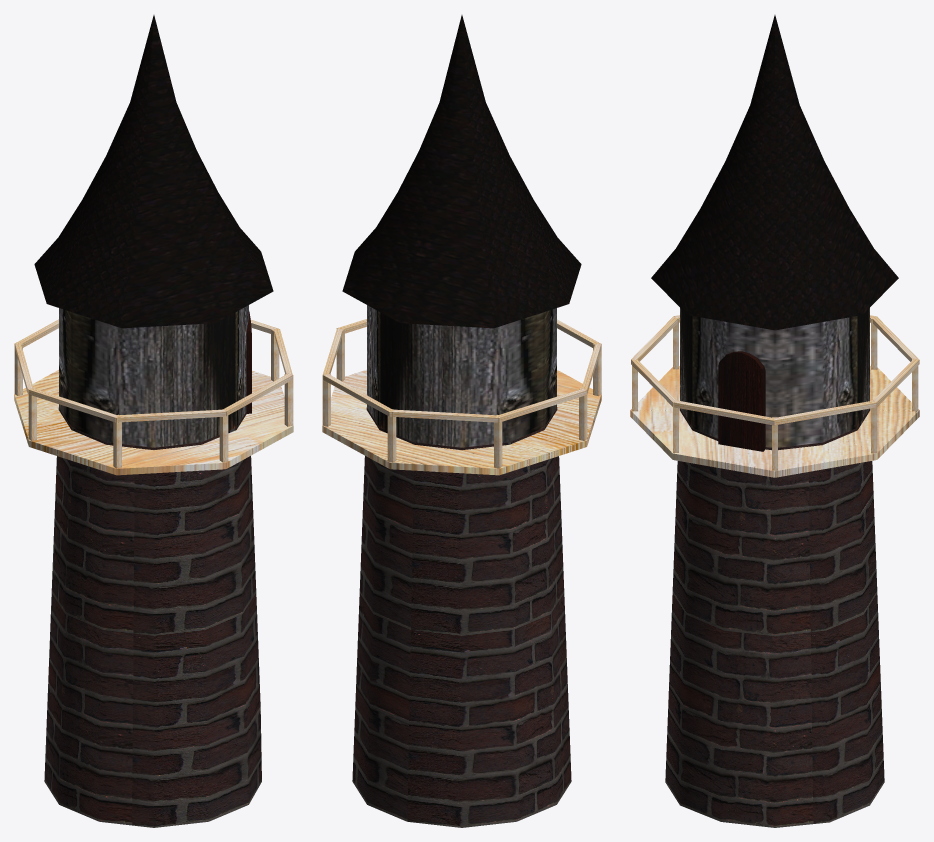
File: tower2.fbx
3 renders of one model, left to right at view 1: azimuth 30°, elevation 25°; view 2: azimuth 150°, elevation 25°; view 3: azimuth 270°, elevation 25°, orthographic.
Visible parts, largest first — view 1: Cone001, Cone002, Cylinder001, Cylinder002, Box013, Box017, Box015; view 2: Cone001, Cone002, Cylinder001, Cylinder002, Box012, Box014, Box011; view 3: Cone001, Cone002, Cylinder001, Cylinder002, Box025, Box016, Box002.
Boxes of the visible parts, x1=… form: Cone001: x1=44, y1=407, x2=261, y2=827; Cone002: x1=34, y1=15, x2=273, y2=328; Cylinder001: x1=59, y1=305, x2=248, y2=447; Cylinder002: x1=14, y1=370, x2=293, y2=475; Box013: x1=116, y1=409, x2=225, y2=422; Box017: x1=28, y1=388, x2=116, y2=422; Box015: x1=223, y1=373, x2=292, y2=416; Cone001: x1=352, y1=407, x2=571, y2=827; Cone002: x1=342, y1=15, x2=581, y2=328; Cylinder001: x1=367, y1=305, x2=556, y2=447; Cylinder002: x1=322, y1=369, x2=601, y2=475; Box012: x1=390, y1=409, x2=498, y2=422; Box014: x1=496, y1=388, x2=586, y2=422; Box011: x1=323, y1=373, x2=393, y2=416; Cone001: x1=665, y1=408, x2=884, y2=827; Cone002: x1=651, y1=15, x2=898, y2=330; Cylinder001: x1=680, y1=308, x2=869, y2=447; Cylinder002: x1=630, y1=366, x2=919, y2=477; Box025: x1=718, y1=351, x2=765, y2=451; Box016: x1=773, y1=400, x2=876, y2=425; Box002: x1=673, y1=400, x2=774, y2=425.
Bounding box in the file's own units: 1405 × 4104 × 1400.
